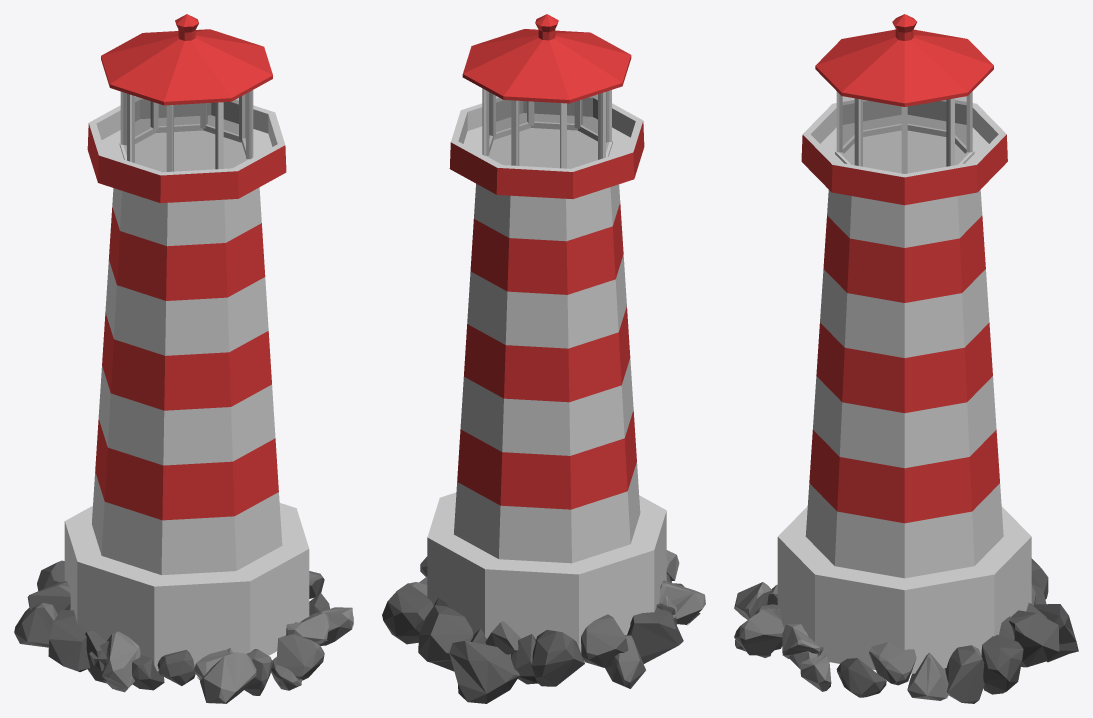
Rendered from lighthouse.fbx.
3 views of the same model, side by side, from view 1: azimuth 30°, elevation 25°; view 2: azimuth 150°, elevation 25°; view 3: azimuth 270°, elevation 25° (orthographic). The views are drawn at different scales.
Parts seen in each view (by area): view 1: lighthouse, stone_03; view 2: lighthouse, stone_03; view 3: lighthouse, stone_03.
Part boxes in pixels (x1=…): lighthouse: x1=64, y1=14, x2=309, y2=671; stone_03: x1=14, y1=560, x2=353, y2=703; lighthouse: x1=427, y1=14, x2=666, y2=653; stone_03: x1=382, y1=550, x2=705, y2=703; lighthouse: x1=777, y1=14, x2=1031, y2=673; stone_03: x1=734, y1=558, x2=1078, y2=703.
Bounding box in the file's own units: 15.49 × 35.81 × 17.22.
